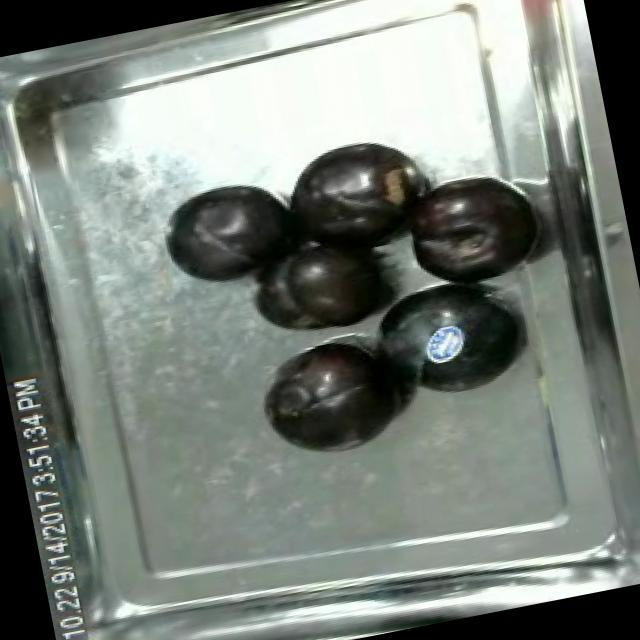Fruit: (358, 264, 535, 416), (250, 324, 415, 472), (278, 126, 440, 261), (390, 162, 548, 296), (240, 222, 402, 350), (154, 170, 306, 298)
